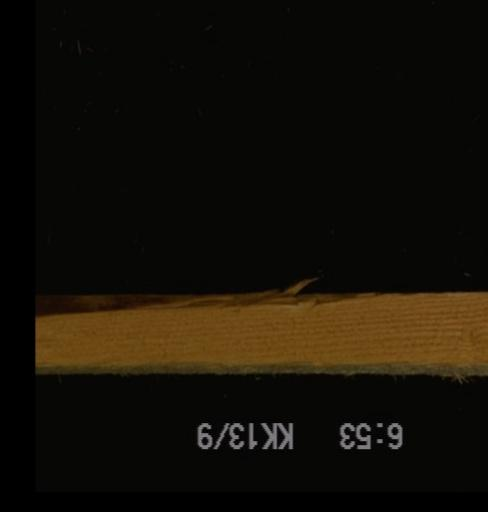wave: (34, 275, 395, 328)
